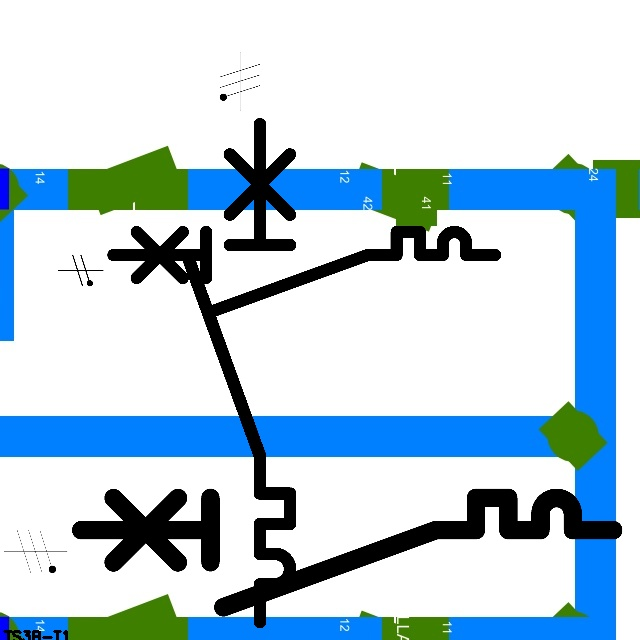interruptor_termomagnetico: (67, 484, 627, 621), (175, 111, 303, 635), (103, 222, 505, 320)
